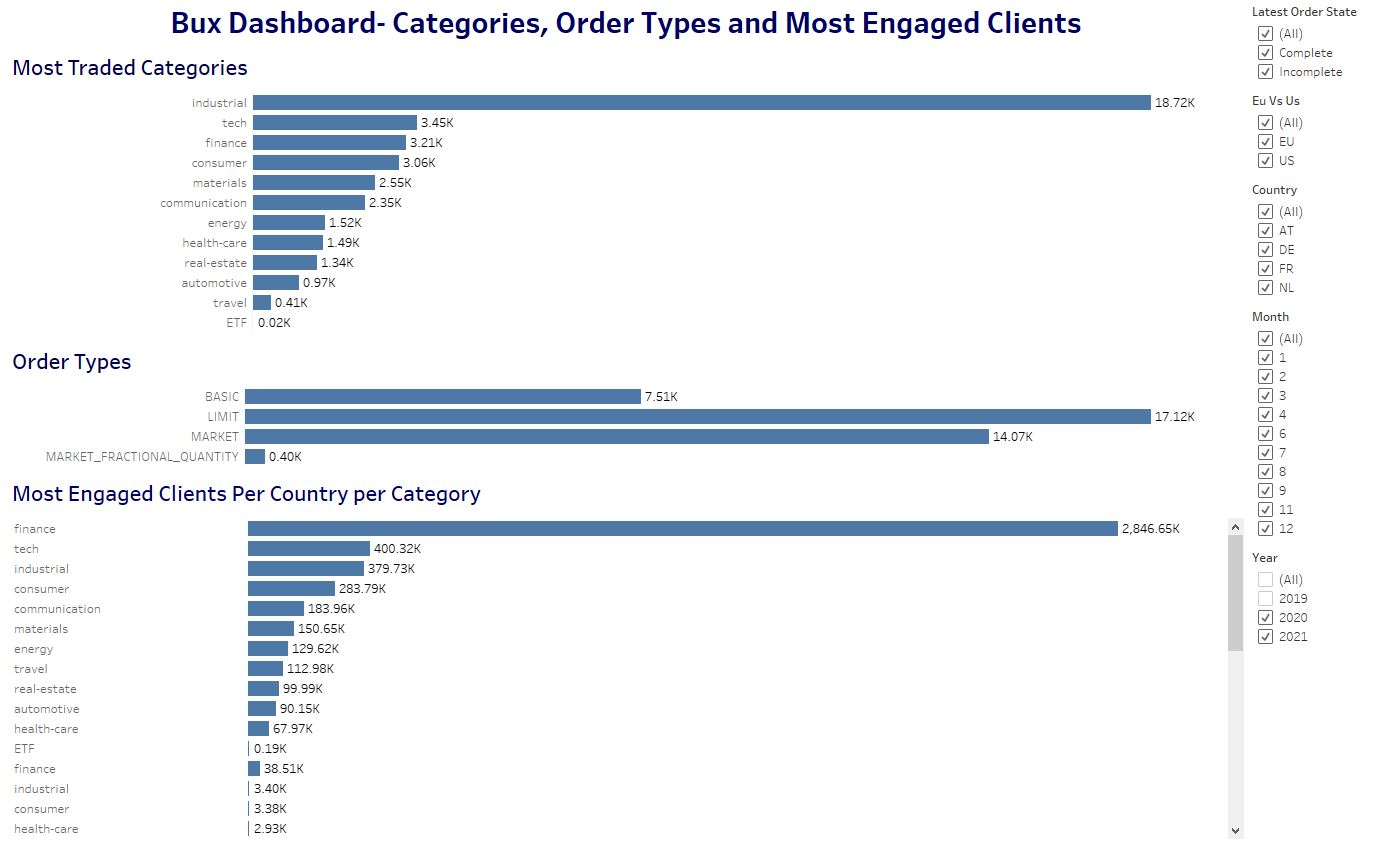

The page's visual inventory and layout, read from the dashboard file:
{"tool":"tableau","page":{"name":"Dashboard 1","canvas":[1000,1000],"units":"permille","ordinal":0},"visuals":[{"type":"text","box":[5.6,9.3,876.1,52.3]},{"type":"filter","title":"Most Traded Categories","param":"[federated.1n8nzd214askj616vdsax0b4wegg].[none:LATEST_ORDER_STATE:nk]","box":[881.7,9.3,112.7,103.5]},{"type":"worksheet","title":"Most Traded Categories","mark":"Automatic","rows":["CATEGORY"],"cols":["CATEGORY"],"box":[5.6,61.6,876.1,339.5]},{"type":"filter","title":"Most Traded Categories","param":"[federated.1n8nzd214askj616vdsax0b4wegg].[none:EU_VS_US:nk]","box":[881.7,112.8,112.7,103.5]},{"type":"filter","title":"Most Traded Categories","param":"[federated.1n8nzd214askj616vdsax0b4wegg].[none:COUNTRY:nk]","box":[881.7,216.3,112.7,147.7]},{"type":"filter","title":"Most Traded Categories","param":"[federated.1n8nzd214askj616vdsax0b4wegg].[none:MONTH:nk]","box":[881.7,363.9,112.7,280.2]},{"type":"worksheet","title":"Order Types","mark":"Automatic","rows":["TYPE"],"cols":["TYPE"],"box":[5.6,403.5,876.1,153.5]},{"type":"worksheet","title":"Most Engaged Clients Per Country per Category","mark":"Automatic","rows":["COUNTRY","CATEGORY"],"cols":["ORDER_VALUE"],"box":[5.6,557,876.1,433.7]},{"type":"filter","title":"Most Traded Categories","param":"[federated.1n8nzd214askj616vdsax0b4wegg].[none:YEAR:nk]","box":[881.7,644.2,112.7,125.6]}]}

Visuals, with their boxes on the dashboard's canvas, which has no fixed pixel size, in thousandths of its width and height (x1, y1, x2, y2). These are canvas units, not pixel positions in the 1391x847 screenshot, which may show the page scaled, cropped or inside an application window:
text: 6 9 882 62
"Most Traded Categories" filter: 882 9 994 113
"Most Traded Categories" worksheet: 6 62 882 401
"Most Traded Categories" filter: 882 113 994 216
"Most Traded Categories" filter: 882 216 994 364
"Most Traded Categories" filter: 882 364 994 644
"Order Types" worksheet: 6 404 882 557
"Most Engaged Clients Per Country per Category" worksheet: 6 557 882 991
"Most Traded Categories" filter: 882 644 994 770
